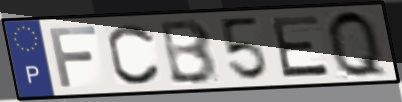5: (215, 15, 272, 82)
B: (158, 16, 221, 86)
C: (105, 22, 164, 87)
E: (268, 13, 332, 80)
F: (46, 24, 100, 90)
Q: (324, 8, 392, 81)
